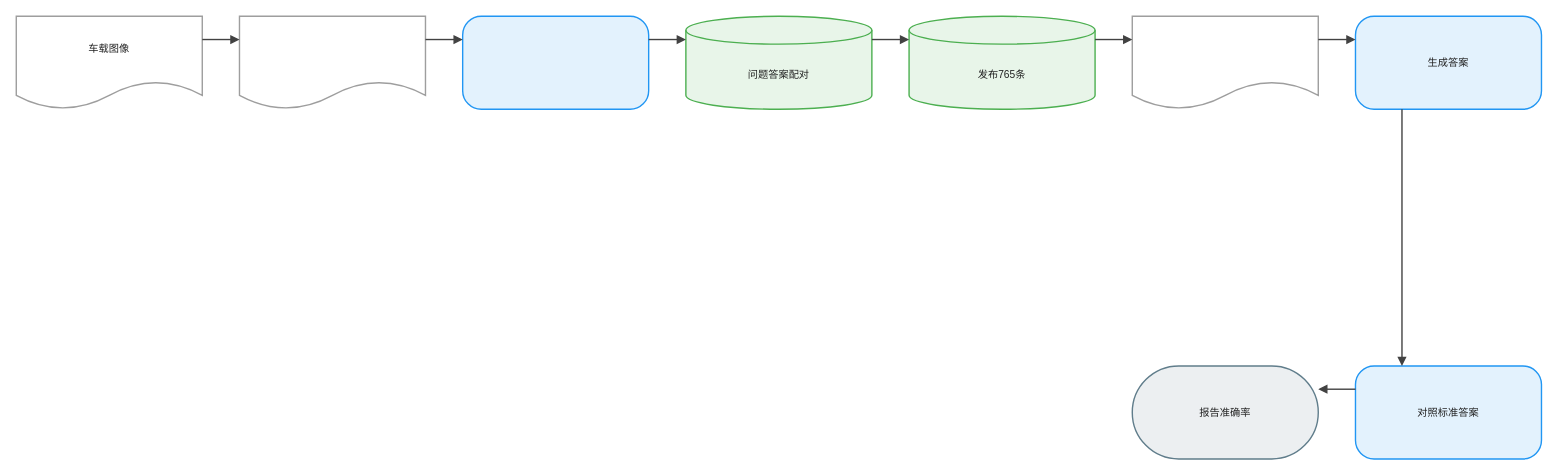
This 1559x476 diagram has some shape labels left out. Here are the shapes that lost their labels. From the top down, the centre of each, then its label:
At point 332,62: "其他场景".
At point 555,62: "图像匿名化".
At point 1225,62: "提供图像问答".
